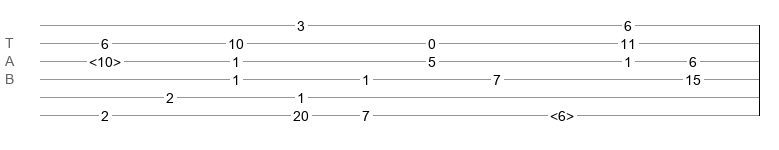0: (428, 36, 436, 46)
1: (232, 54, 240, 64), (232, 72, 240, 82), (297, 90, 305, 100), (362, 72, 370, 82), (624, 54, 632, 64)
10: (228, 36, 244, 46)
11: (620, 36, 636, 46)
15: (685, 72, 701, 82)
2: (101, 108, 109, 118), (166, 90, 174, 100)
20: (293, 108, 309, 118)
3: (297, 18, 305, 28)
5: (428, 54, 436, 64)
6: (101, 36, 109, 46), (624, 18, 632, 28), (689, 54, 697, 64)
7: (362, 108, 370, 118), (493, 72, 501, 82)
harmonic: (89, 54, 121, 64), (550, 108, 574, 118)
